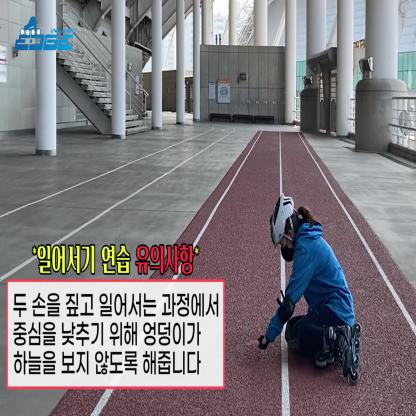Fall_Down: (246, 202, 356, 378)
